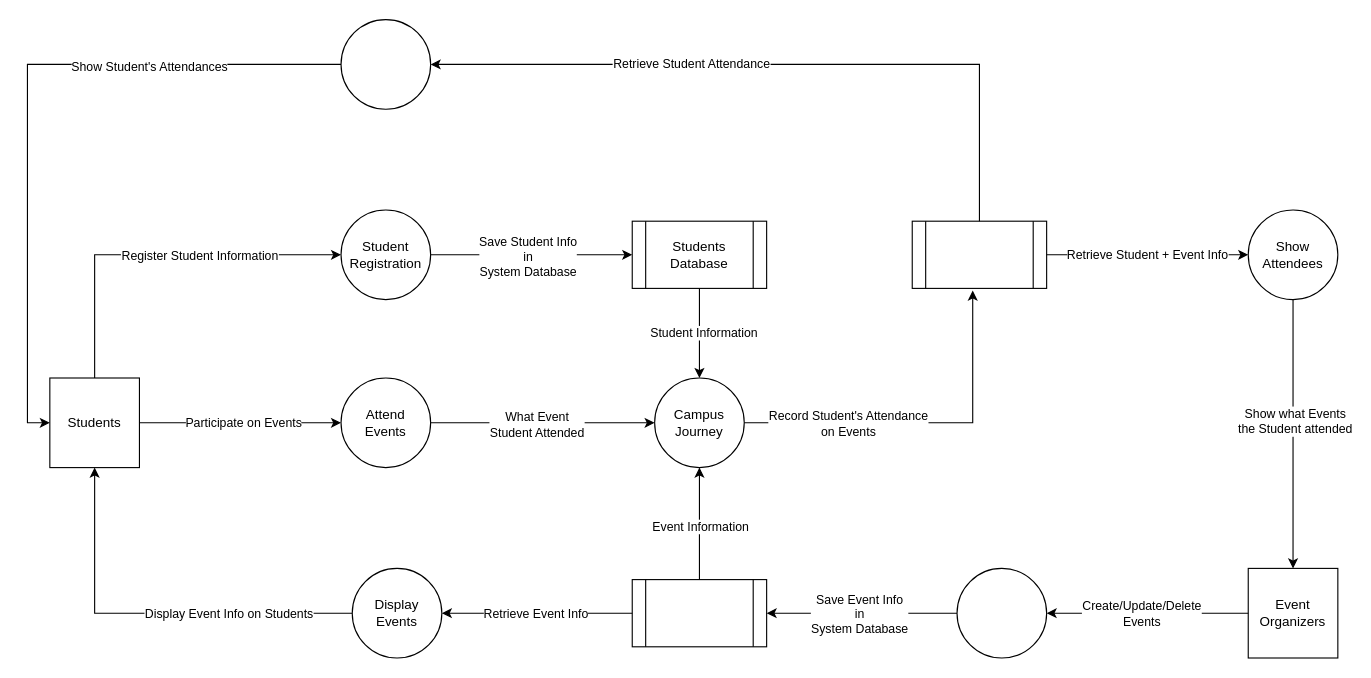
The diagram is 1371 pixels wide and 678 high, and some of its shapes have lost their labels. The shapes that lost their labels are listed below. From the top down, each one's centre as x and y in pixels, then its label:
At [385,63]: "Show Attendance".
At [979,254]: "Record Attendances".
At [699,612]: "Events Database".
At [1001,612]: "Manage Events".
